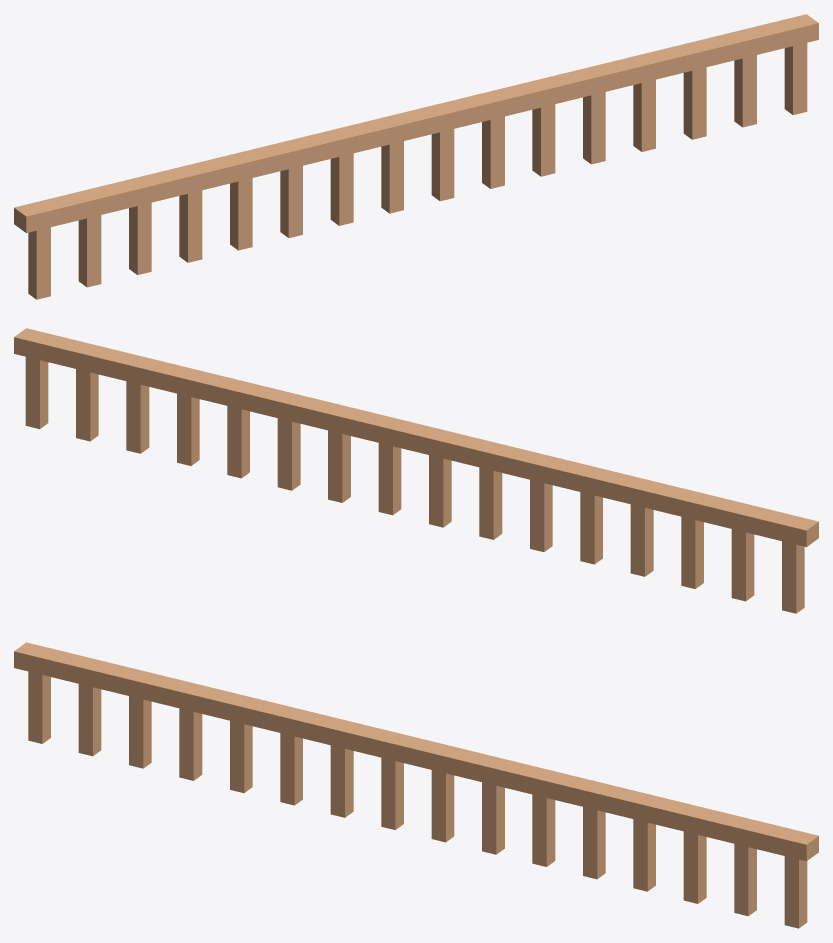
File: PlattformGelaender.fbx
3 renders of one model, top to bottom at view 1: azimuth 30°, elevation 25°; view 2: azimuth 150°, elevation 25°; view 3: azimuth 330°, elevation 25°, orthographic.
Parts seen in each view (by area): view 1: PlattformGelaender; view 2: PlattformGelaender; view 3: PlattformGelaender.
Boxes of the visible parts, <box> form: PlattformGelaender: <box>14,14,818,299</box>; PlattformGelaender: <box>14,328,818,613</box>; PlattformGelaender: <box>14,642,818,928</box>.
Size of the model in its own units: 897 by 94.77 by 24.23.
